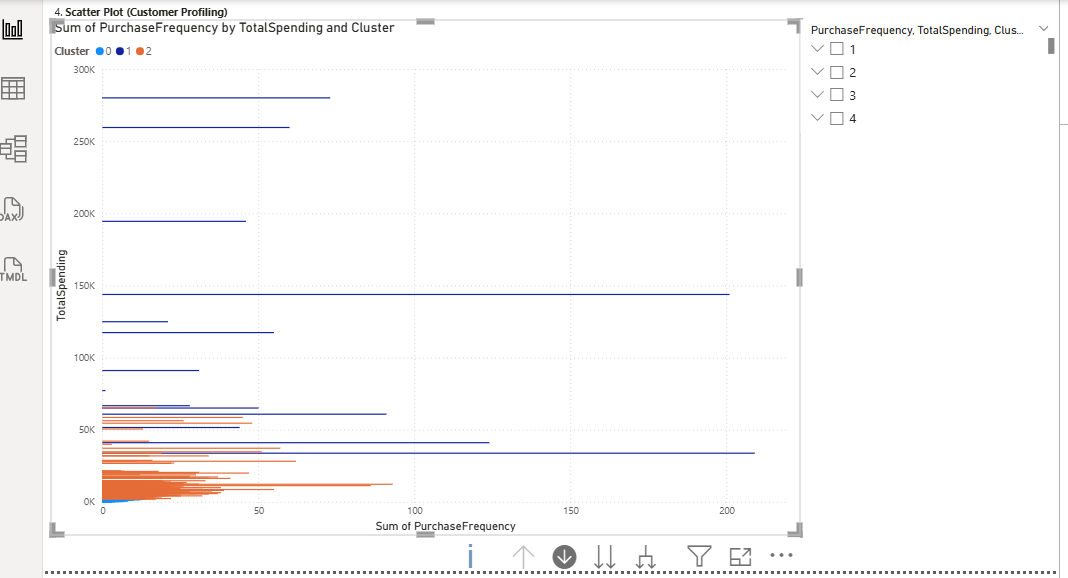

This screenshot's page, from the dashboard's own definition file:
{"tool":"powerbi","page":{"name":"Page 4","canvas":[1280,720],"ordinal":3},"visuals":[{"type":"textbox","box":[9.4,0,279.7,47.2],"z":0},{"type":"barChart","fields":{"Y":["Sum(cleaned_customer_data.PurchaseFrequency)"],"Category":["cleaned_customer_data.TotalSpending","cleaned_customer_data.Customer ID"],"Series":["cleaned_customer_data.Cluster"]},"box":[9.4,24.6,944.9,650.1],"z":1},{"type":"slicer","fields":{"Values":["cleaned_customer_data.PurchaseFrequency","cleaned_customer_data.TotalSpending","cleaned_customer_data.Cluster"]},"box":[954.3,24.6,325,141.7],"z":2}]}

Visuals, with their boxes on the page's 1280x720 design canvas (x1, y1, x2, y2). These are canvas units, not pixel positions in the 1068x578 screenshot, which may show the page scaled, cropped or inside an application window:
textbox: [9, 0, 289, 47]
barChart - Sum(cleaned_customer_data.PurchaseFrequency) x cleaned_customer_data.TotalSpending: [9, 25, 954, 675]
slicer - cleaned_customer_data.PurchaseFrequency x cleaned_customer_data.TotalSpending: [954, 25, 1279, 166]
